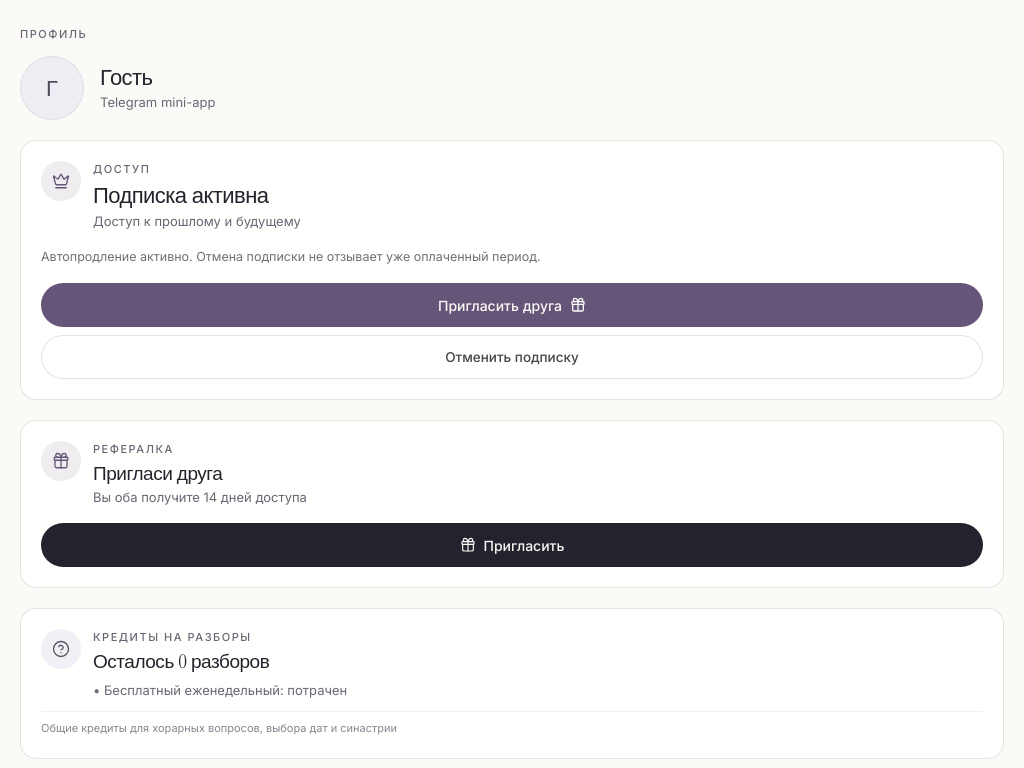
ProfileScreen cancel refresh contract › successful cancel re-reads status: cancel button hides, non-renewing shown, access stays subscription
Click the button "Отменить подписку" at x=512, y=357, box [41,335,983,379]
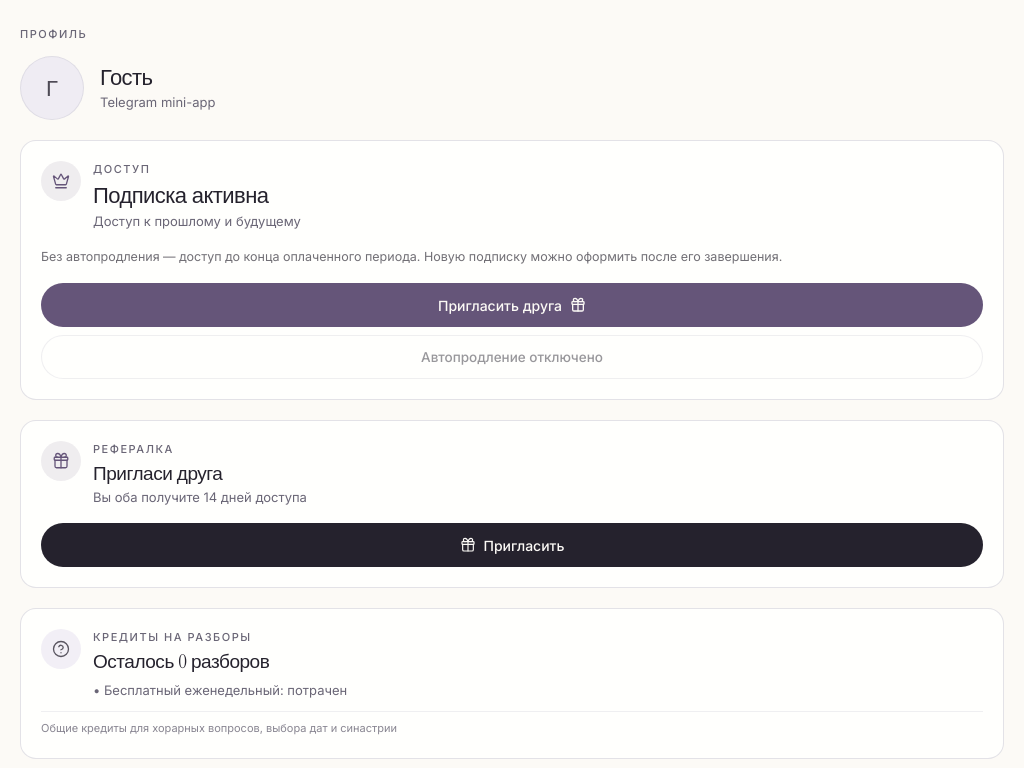
Check: the button "Отменить подписку" is gone
Check: the text "Без автопродления" is shown, box [41,249,782,264]
Check: the button "Автопродление отключено" is shown, box [41,335,983,379]
